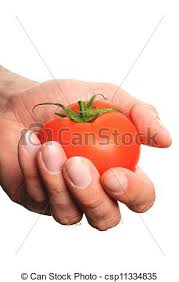tomato: (38, 102, 140, 173)
